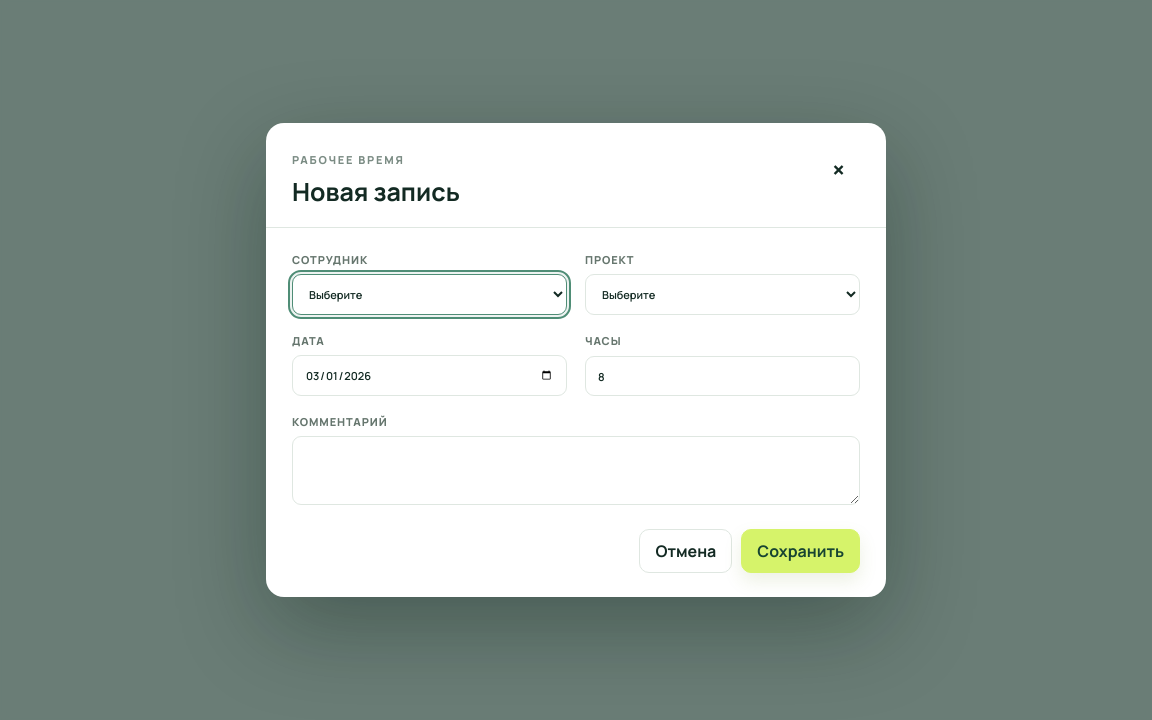
EntryModal › says the 24-hour limit belongs to one entry
The width and height of the screenshot is (1152, 720).
Step 1. Select "Иванов И. И." in the dropdown labelled "Сотрудник" → x=430, y=294, box [292,274,567,315]
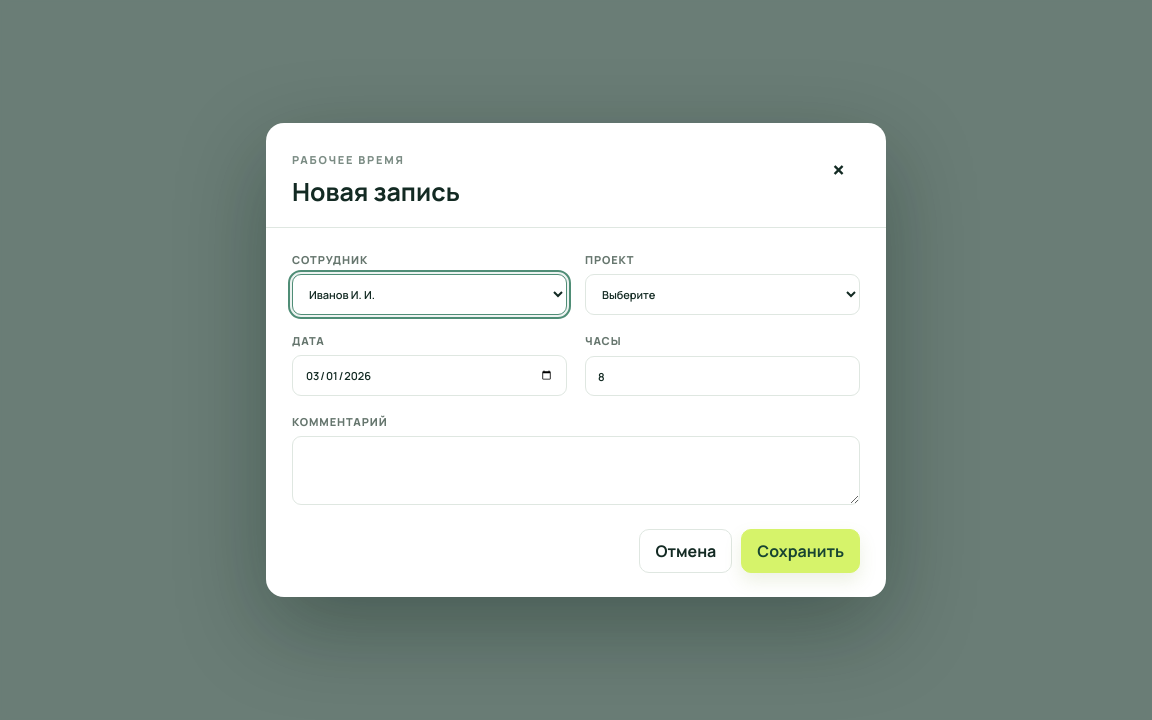
Step 2. Select "П-001 · Реконструкция цеха" in the dropdown labelled "Проект" → x=722, y=294, box [585,274,860,315]
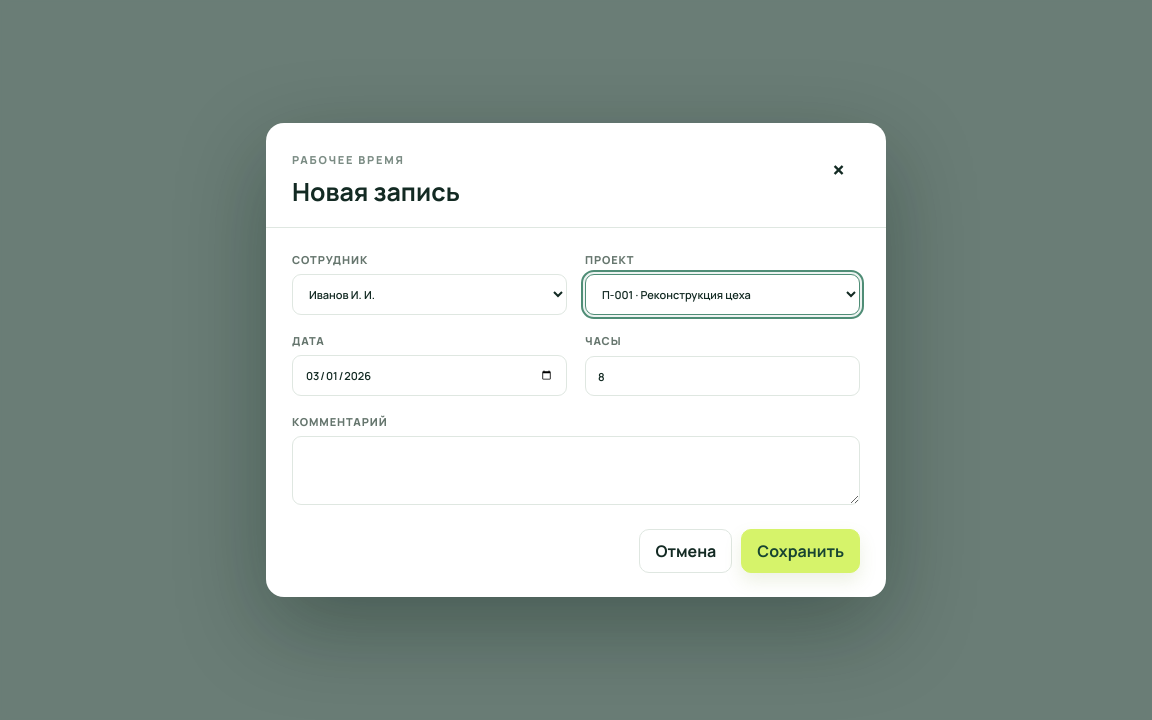
Step 3. Replace the text in the number field labelled "Часы" with "25" → x=722, y=376, box [585,356,860,396]
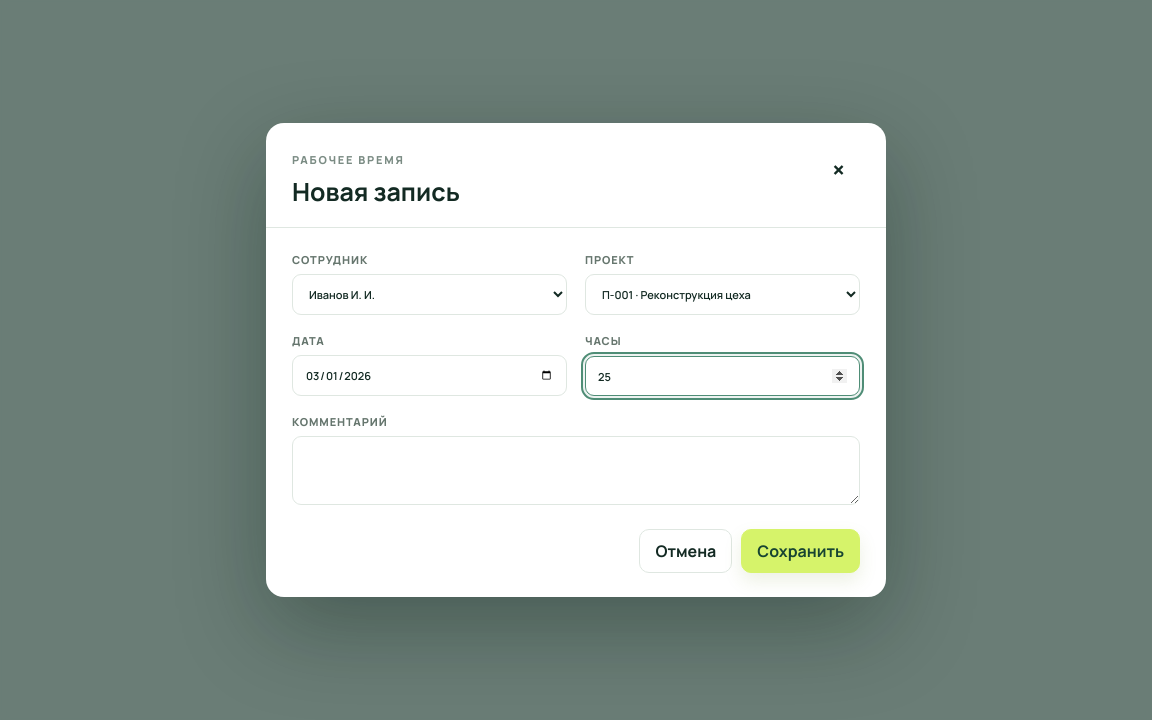
Step 4. Click the button "Сохранить" → x=801, y=551, box [741,529,860,573]
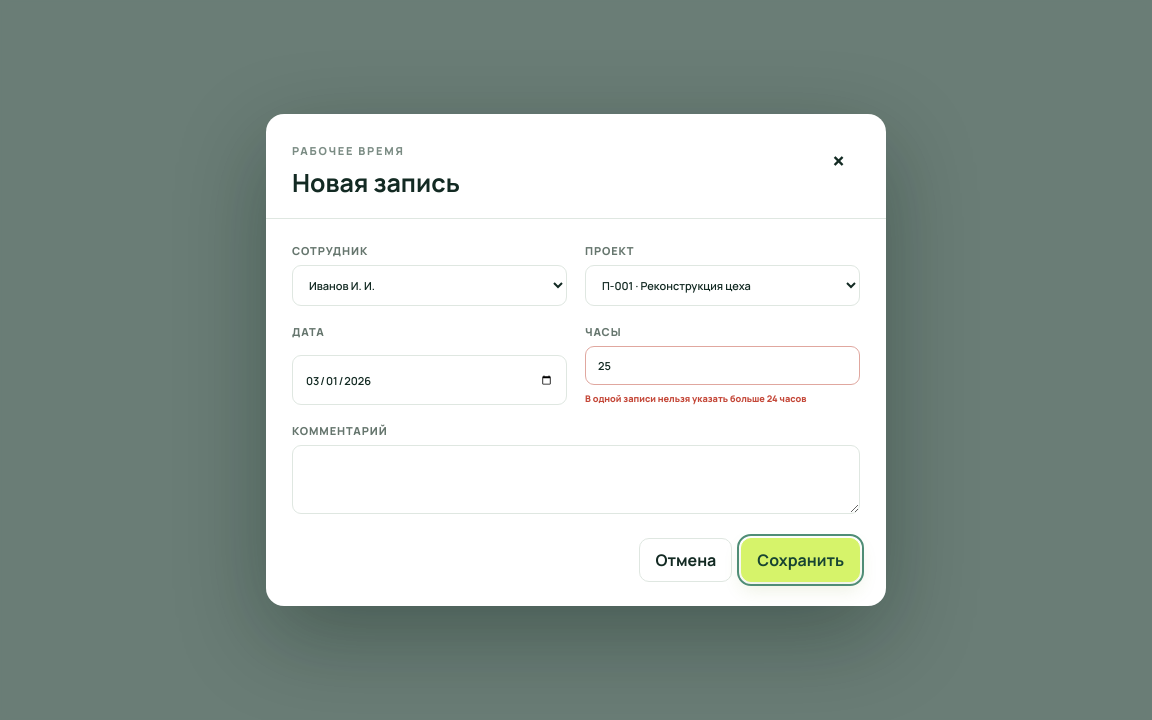
expect the text "В одной записи нельзя указать больше 24 часов" is shown: met, box [585,392,806,405]
